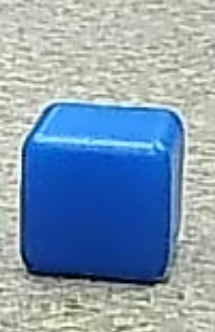blue_cube: (12, 97, 196, 288)
